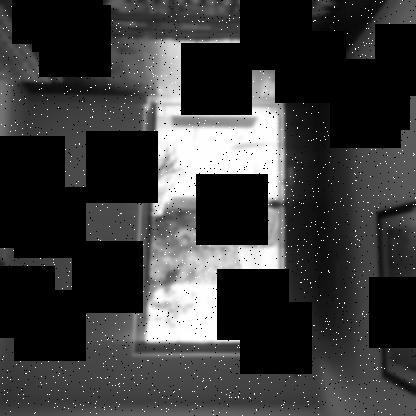Porte: (130, 48, 304, 379)
